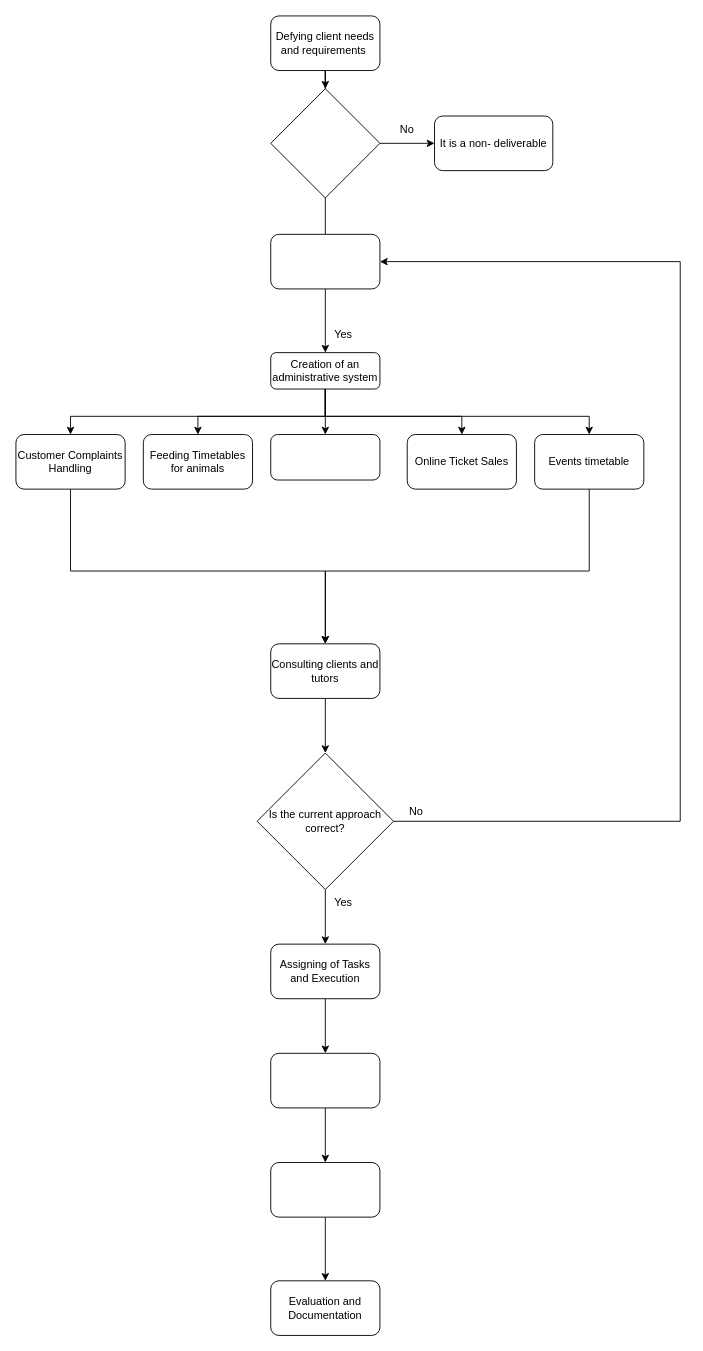
The diagram is 703 pixels wide and 1351 high, and some of its shapes have lost their labels. The centre of each missing label's shape, as x and y in pixels:
Finalization of Tasks: point (325, 1189)
Is the an issue mentioned by the clinet?: point (325, 143)
Monitoring Progress: point (325, 1080)
Planning and analysis: point (325, 261)
Replacing manual processes with automated workflows: point (325, 457)
